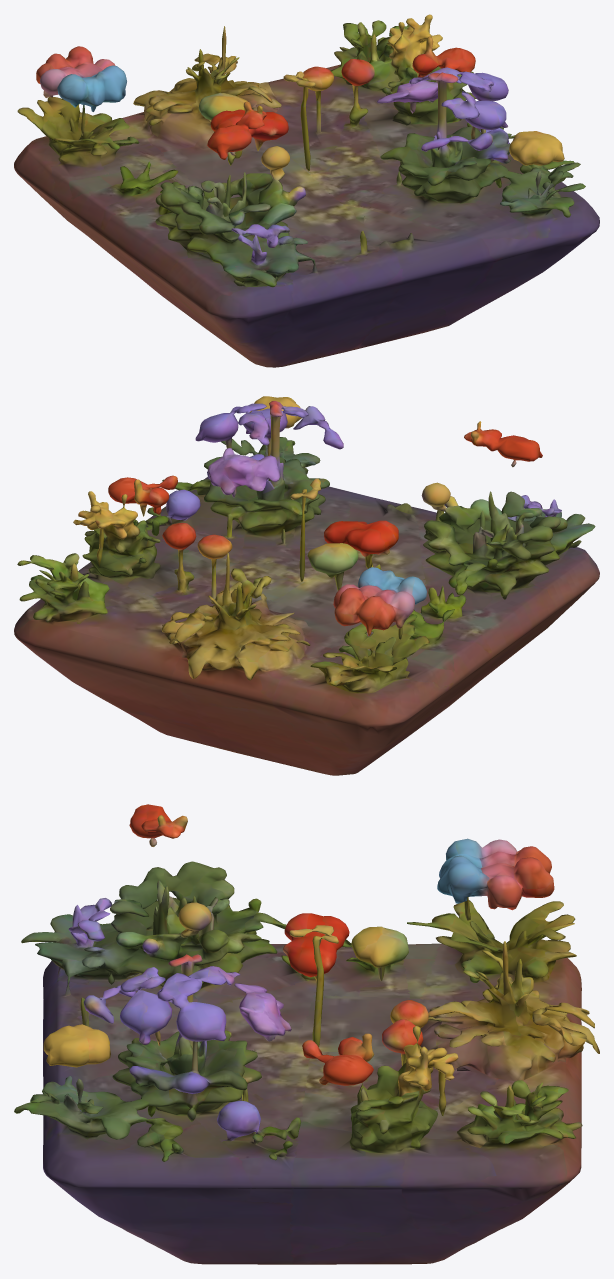
Rendered from flower_mixed_bed.glb.
3 renders of one model, top to bottom at view 1: azimuth 30°, elevation 25°; view 2: azimuth 150°, elevation 25°; view 3: azimuth 270°, elevation 25°, orthographic. The views are drawn at different scales.
Parts seen in each view (by area): view 1: tripo_node_2b2524a6-b319-4fee-97bf-5d717571def9; view 2: tripo_node_2b2524a6-b319-4fee-97bf-5d717571def9; view 3: tripo_node_2b2524a6-b319-4fee-97bf-5d717571def9.
Part boxes in pixels (box(x1,y1,x2,y2)): tripo_node_2b2524a6-b319-4fee-97bf-5d717571def9: box(14, 14, 599, 367); tripo_node_2b2524a6-b319-4fee-97bf-5d717571def9: box(14, 396, 599, 775); tripo_node_2b2524a6-b319-4fee-97bf-5d717571def9: box(14, 804, 599, 1264).
Bounding box in the file's own units: 0.8642 × 0.563 × 0.9136.
1 material, 1 textured.
